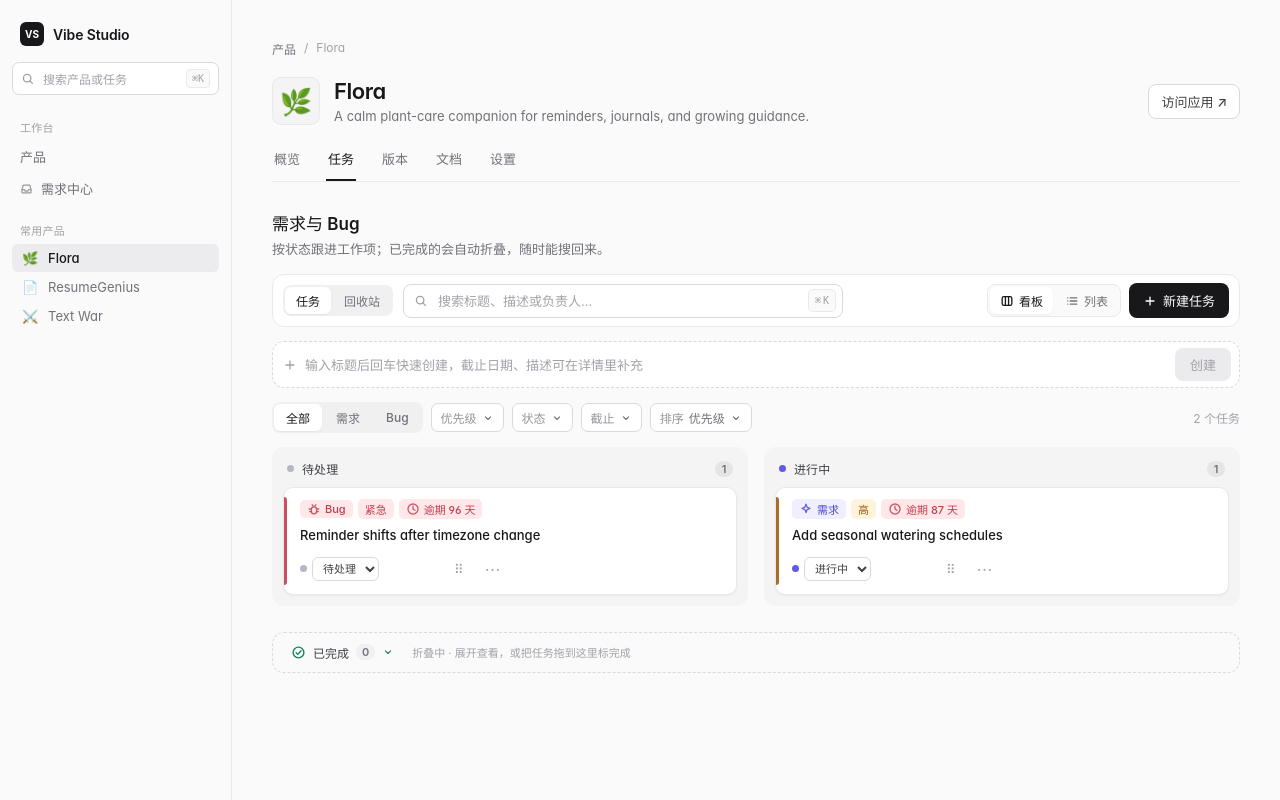
task board › shows repository failures as alerts
The width and height of the screenshot is (1280, 800).
Type "Cannot persist" into the field named "新建任务标题" at (736, 364), box 305,352 -> 1167,376
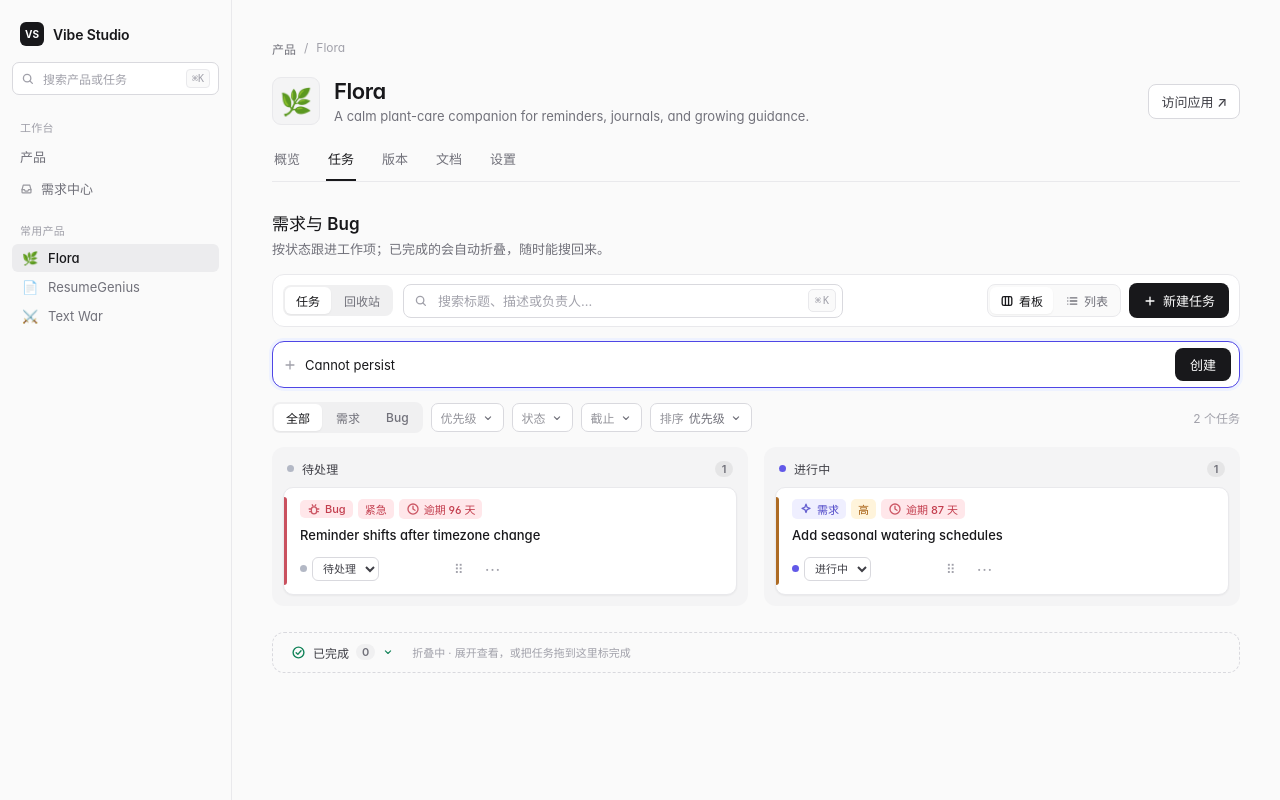
Click the button "创建" at (1203, 364), box 1175,348 -> 1231,381
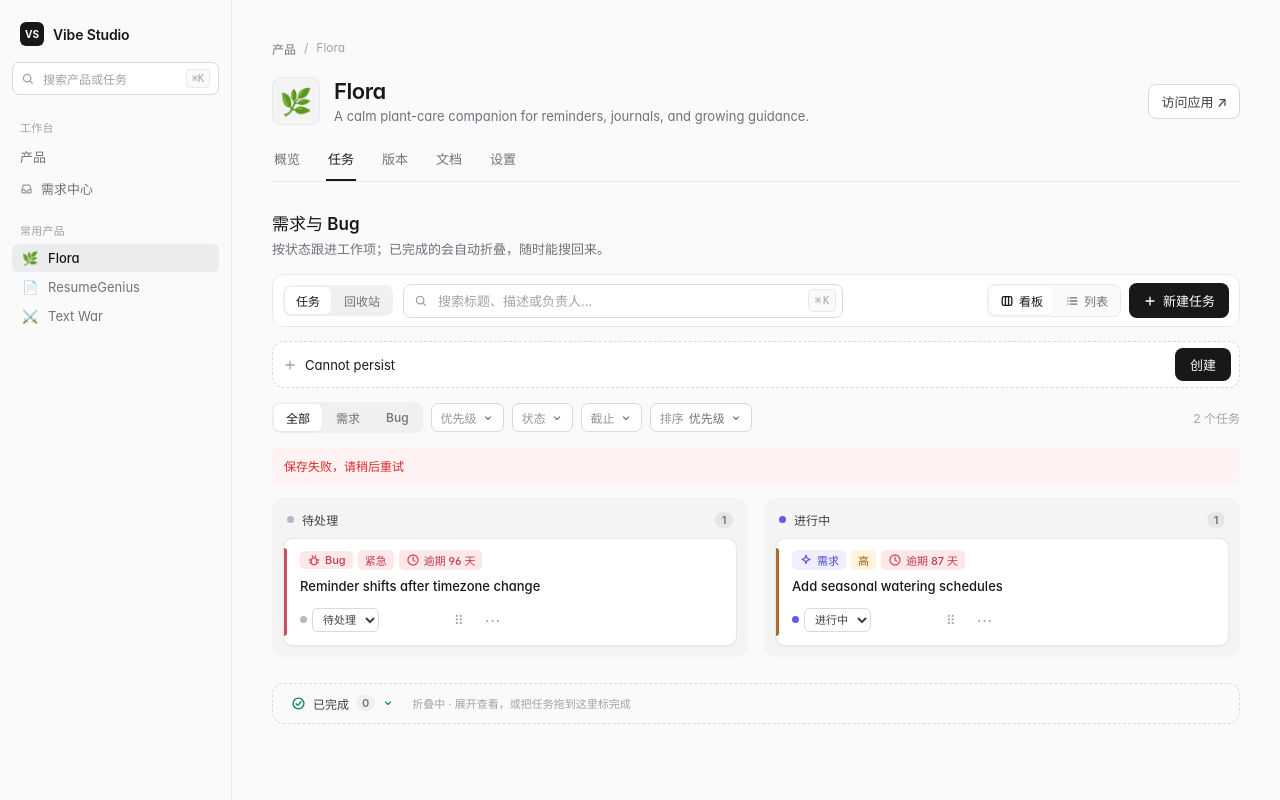
Check: the message reads "保存失败，请稍后重试", box 284,459 -> 404,474
